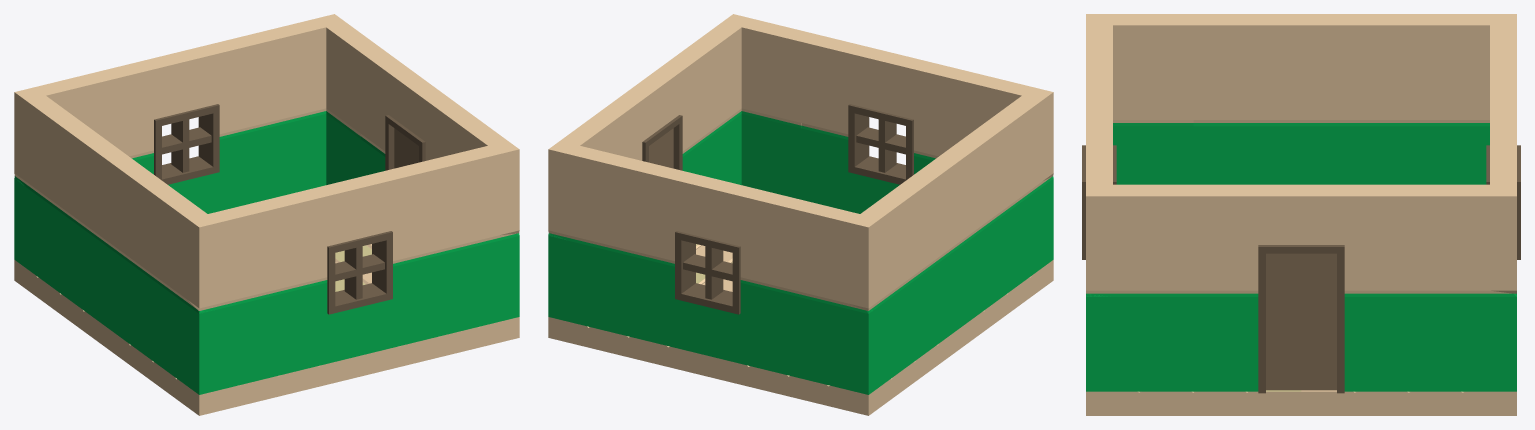
File: Itchio_Probs.fbx
3 views of the same model, side by side, from view 1: azimuth 30°, elevation 25°; view 2: azimuth 150°, elevation 25°; view 3: azimuth 270°, elevation 25° (orthographic). The views are drawn at different scales.
Parts seen in each view (by area): view 1: Cube.052, Cube.044, Cube.046, Cube.055, Cube.042, Cube.045, Cube.043, Cube.049, Cube.040, Cube.041, Cube.053, Cube.047 (+5 smaller); view 2: Cube.046, Cube.043, Cube.052, Cube.055, Cube.045, Cube.042, Cube.044, Cube.049, Cube.038, Cube.039, Cube.047, Cube.053 (+5 smaller); view 3: Cube.055, Cube.049, Cube.042, Cube.045, Cube.043, Cube.044, Cube.051, Cube.039, Cube.041, Cube.050, Cube.046, Cube.052 (+2 smaller).
Boxes of the visible parts, bbox=[...] form: Cube.052: bbox=[268, 160, 439, 375]; Cube.044: bbox=[153, 189, 279, 394]; Cube.046: bbox=[95, 33, 266, 213]; Cube.055: bbox=[60, 121, 172, 360]; Cube.042: bbox=[255, 14, 380, 199]; Cube.045: bbox=[428, 115, 519, 336]; Cube.043: bbox=[14, 72, 105, 293]; Cube.049: bbox=[361, 48, 472, 176]; Cube.040: bbox=[107, 328, 359, 415]; Cube.041: bbox=[335, 272, 519, 376]; Cube.053: bbox=[327, 231, 392, 314]; Cube.047: bbox=[154, 104, 219, 184]; Cube.046: bbox=[628, 160, 799, 375]; Cube.043: bbox=[788, 189, 914, 394]; Cube.052: bbox=[801, 33, 972, 213]; Cube.055: bbox=[895, 121, 1007, 360]; Cube.045: bbox=[687, 14, 812, 199]; Cube.042: bbox=[548, 115, 639, 336]; Cube.044: bbox=[962, 72, 1053, 293]; Cube.049: bbox=[595, 48, 706, 176]; Cube.038: bbox=[708, 328, 960, 415]; Cube.039: bbox=[548, 272, 732, 376]; Cube.047: bbox=[675, 231, 740, 314]; Cube.053: bbox=[848, 104, 913, 184]; Cube.055: bbox=[1193, 14, 1409, 184]; Cube.049: bbox=[1193, 184, 1409, 391]; Cube.042: bbox=[1409, 150, 1516, 391]; Cube.045: bbox=[1086, 150, 1193, 391]; Cube.043: bbox=[1409, 14, 1516, 184]; Cube.044: bbox=[1086, 14, 1193, 184]; Cube.051: bbox=[1266, 253, 1336, 390]; Cube.039: bbox=[1301, 390, 1516, 415]; Cube.041: bbox=[1086, 390, 1301, 415]; Cube.050: bbox=[1258, 245, 1344, 393]; Cube.046: bbox=[1490, 59, 1516, 150]; Cube.052: bbox=[1086, 59, 1112, 150].
Bounding box in the file's own units: 404 × 225 × 407.
